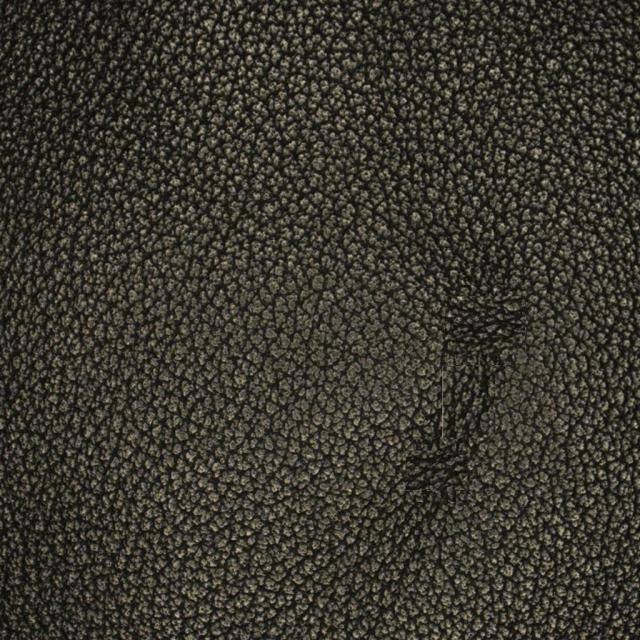Healed Injury: (358, 377, 511, 521), (390, 262, 550, 362)
